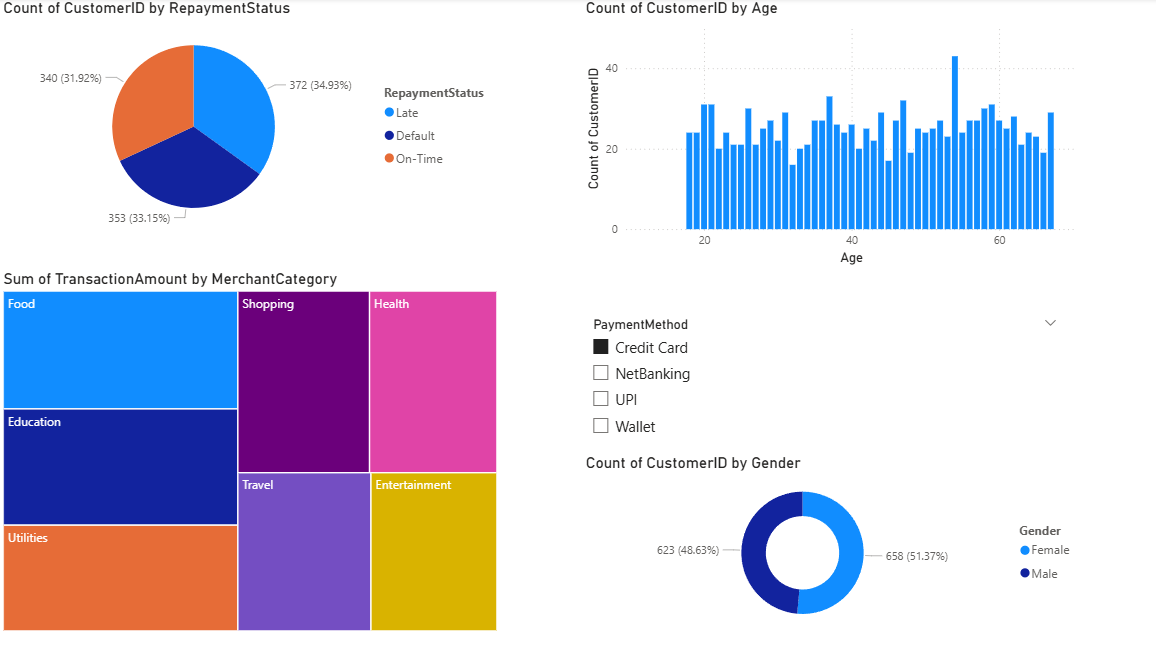

The dashboard page shown, as its layout file describes it:
{"tool":"powerbi","page":{"name":"Page 2","canvas":[1280,720],"ordinal":1},"visuals":[{"type":"pieChart","fields":{"Category":["fintech_transactions.RepaymentStatus"],"Y":["Count(fintech_transactions.CustomerID)"]},"box":[0,0,551.6,263.5],"z":0},{"type":"clusteredColumnChart","fields":{"Category":["fintech_transactions.Age"],"Y":["Count(fintech_transactions.CustomerID)"]},"box":[639.5,0,551.6,297.8],"z":1000},{"type":"treemap","fields":{"Group":["fintech_transactions.MerchantCategory"],"Values":["Sum(fintech_transactions.TransactionAmount)"]},"box":[0,297.8,551.6,402.1],"z":2000},{"type":"slicer","fields":{"Values":["fintech_transactions.PaymentMethod"]},"box":[639.5,344.4,533.8,155.1],"z":3000},{"type":"donutChart","fields":{"Category":["fintech_transactions.Gender"],"Y":["CountNonNull(fintech_transactions.CustomerID)"]},"box":[639.5,499.5,551.6,200.3],"z":4000}]}

Visuals, with their boxes in screenshot pixels (x1, y1, x2, y2), scaled from the page's 1280x720 canvas onto the 1156x645 screenshot:
pieChart - fintech_transactions.RepaymentStatus x Count(fintech_transactions.CustomerID): left=0, top=0, right=498, bottom=236
clusteredColumnChart - fintech_transactions.Age x Count(fintech_transactions.CustomerID): left=578, top=0, right=1076, bottom=267
treemap - fintech_transactions.MerchantCategory x Sum(fintech_transactions.TransactionAmount): left=0, top=267, right=498, bottom=627
slicer - fintech_transactions.PaymentMethod: left=578, top=309, right=1060, bottom=447
donutChart - fintech_transactions.Gender x CountNonNull(fintech_transactions.CustomerID): left=578, top=447, right=1076, bottom=627
